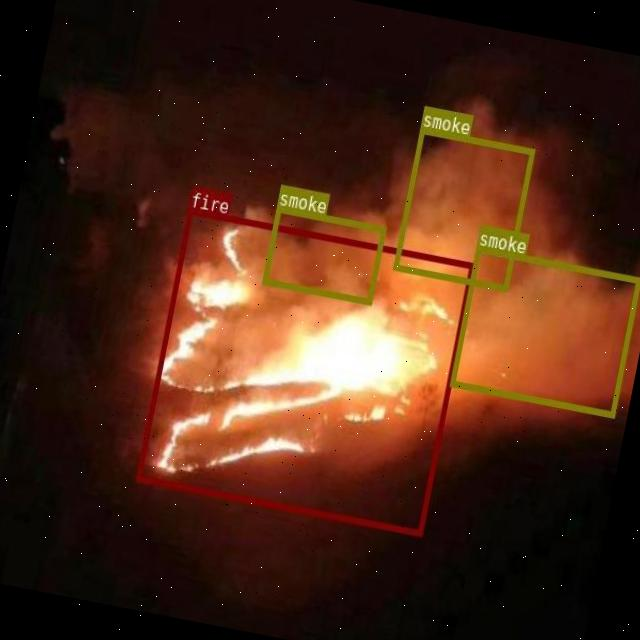fire: (135, 208, 474, 536)
smoke: (449, 245, 640, 416), (393, 128, 534, 291), (261, 204, 385, 304)
